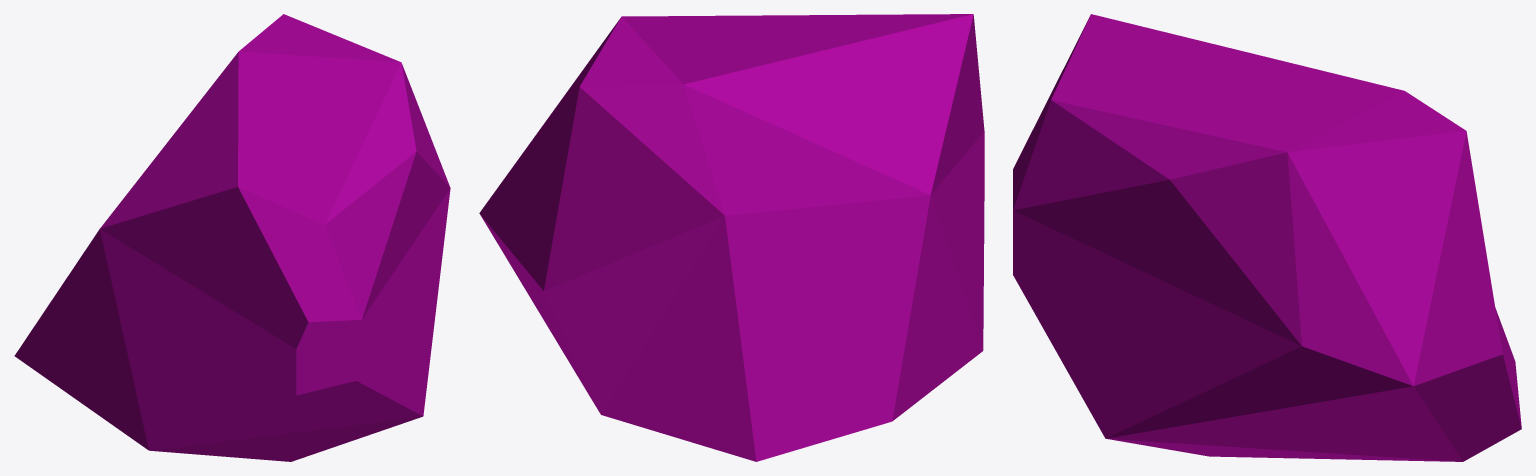
Rendered from Collider_Med_Rock_003.fbx.
The picture shows the model from 3 angles, left to right: view 1: azimuth 30°, elevation 25°; view 2: azimuth 150°, elevation 25°; view 3: azimuth 270°, elevation 25°; orthographic projection. The views are drawn at different scales.
Parts seen in each view (by area): view 1: Collider_Med_Rock_003; view 2: Collider_Med_Rock_003; view 3: Collider_Med_Rock_003.
Boxes of the visible parts, box(x1,y1,x2,y2) form: Collider_Med_Rock_003: box(14, 14, 450, 461); Collider_Med_Rock_003: box(479, 14, 984, 461); Collider_Med_Rock_003: box(1013, 14, 1521, 461).
Bounding box in the file's own units: 2.12 × 1.7 × 2.04.
